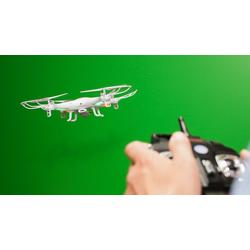drone: (18, 84, 138, 123)
